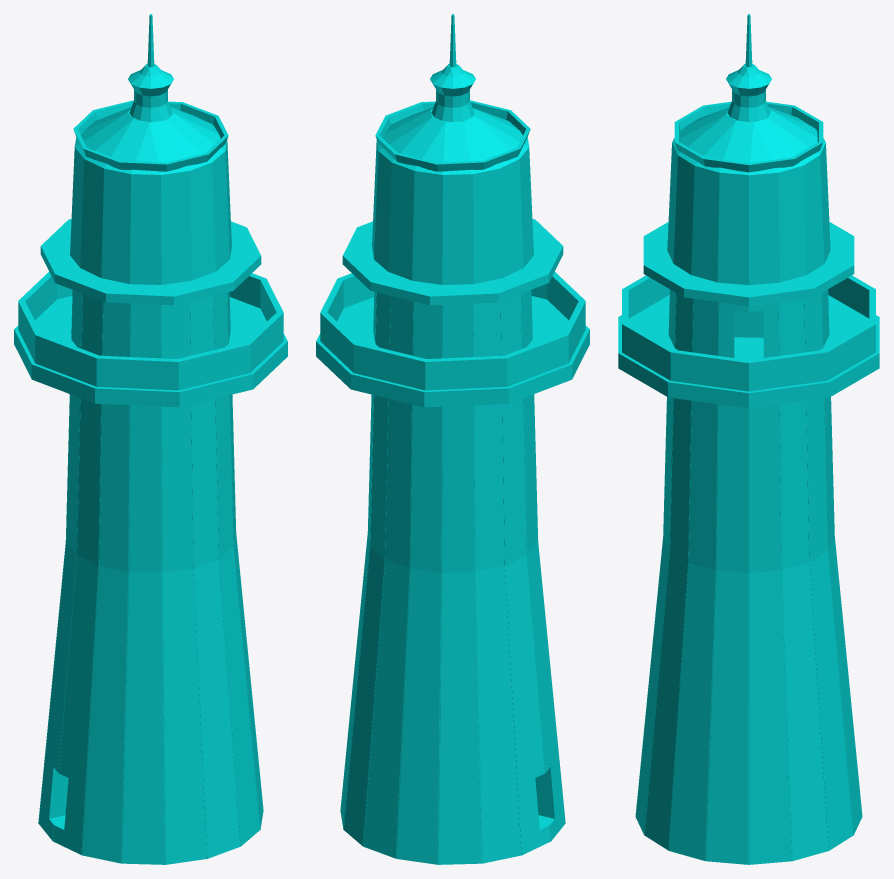
Rendered from SM_Bld_Lighthouse_01_Collision.fbx.
The picture shows the model from 3 angles, left to right: view 1: azimuth 30°, elevation 25°; view 2: azimuth 150°, elevation 25°; view 3: azimuth 270°, elevation 25°; orthographic projection.
Parts seen in each view (by area): view 1: SM_Bld_Lighthouse_01_Collision; view 2: SM_Bld_Lighthouse_01_Collision; view 3: SM_Bld_Lighthouse_01_Collision.
Part boxes in pixels (left/top/right/bottom): SM_Bld_Lighthouse_01_Collision: left=14, top=14, right=287, bottom=864; SM_Bld_Lighthouse_01_Collision: left=316, top=14, right=589, bottom=864; SM_Bld_Lighthouse_01_Collision: left=618, top=14, right=879, bottom=864.
Bounding box in the file's own units: 957 × 3081 × 911.
